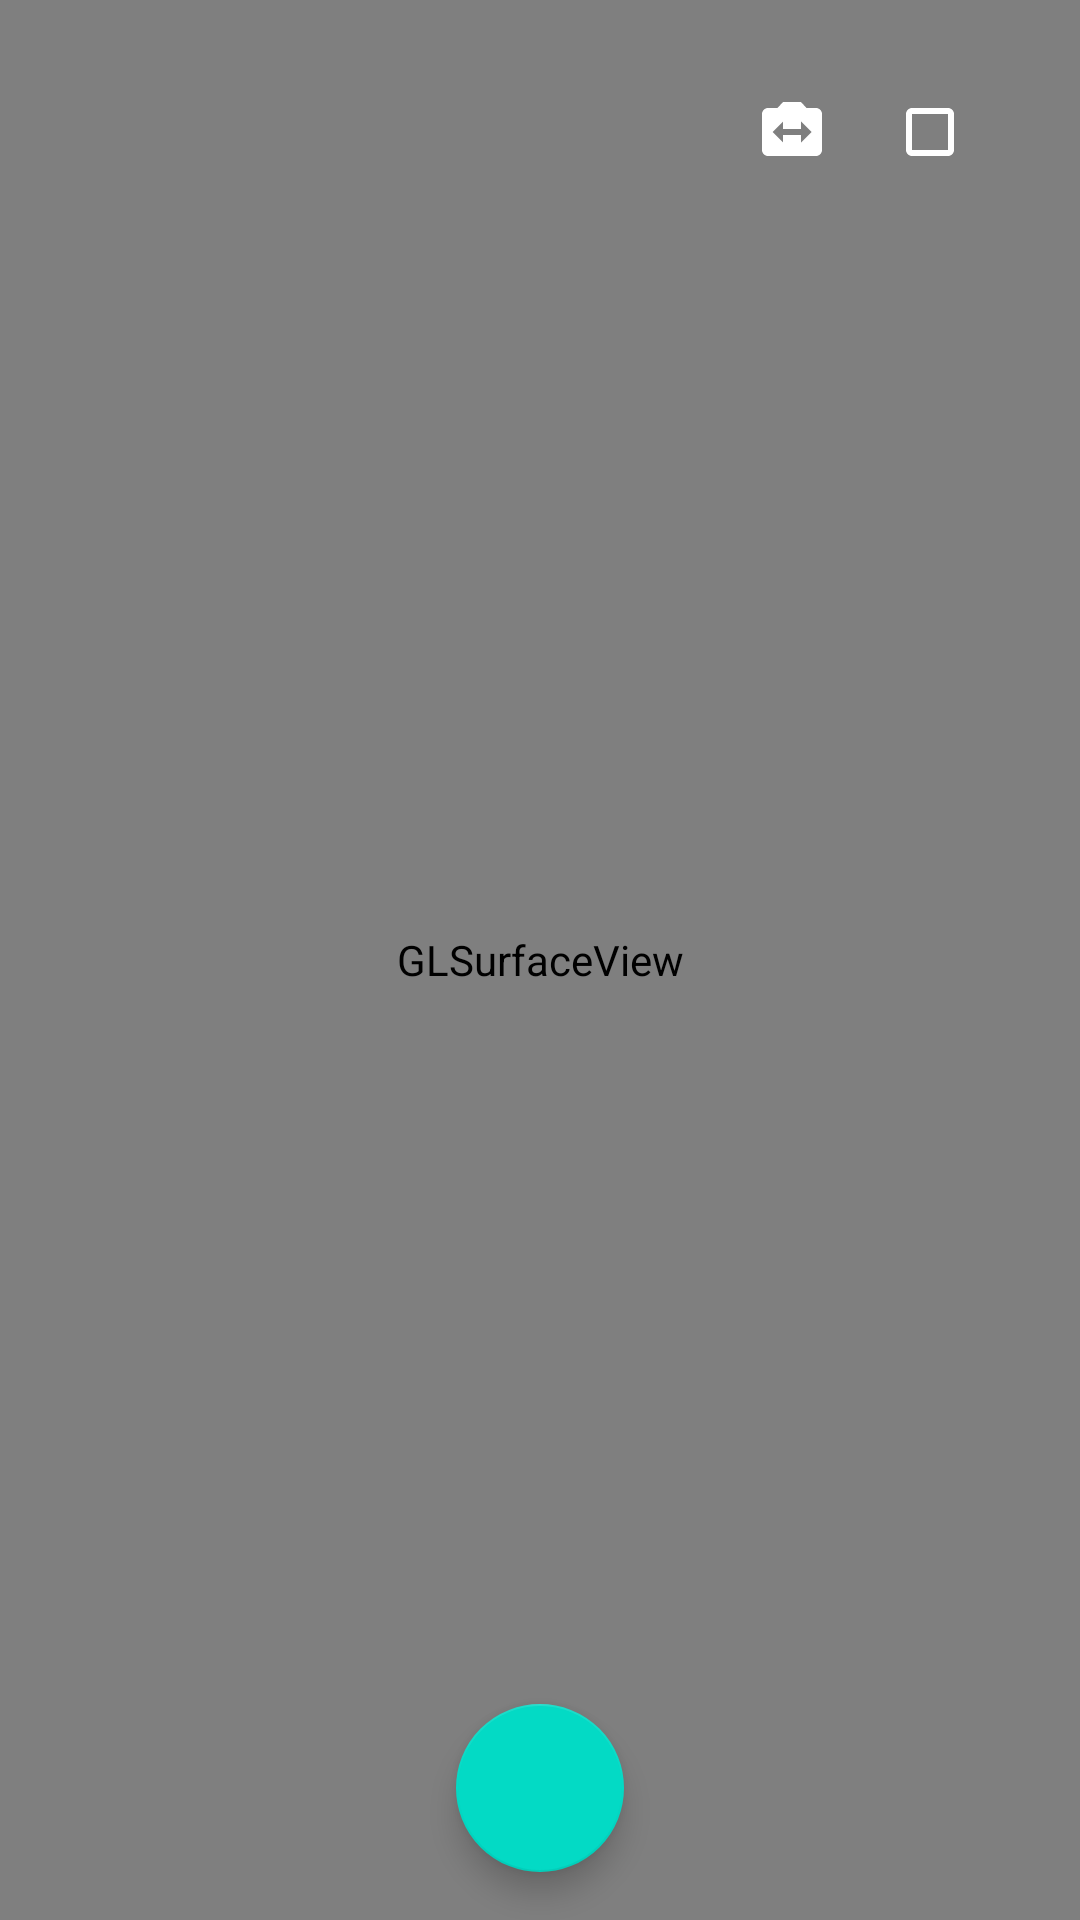

Icon click points for this 1080px×1920px phone screenshot, format (x=x, y=y):
switch camera: (x=792, y=129)
